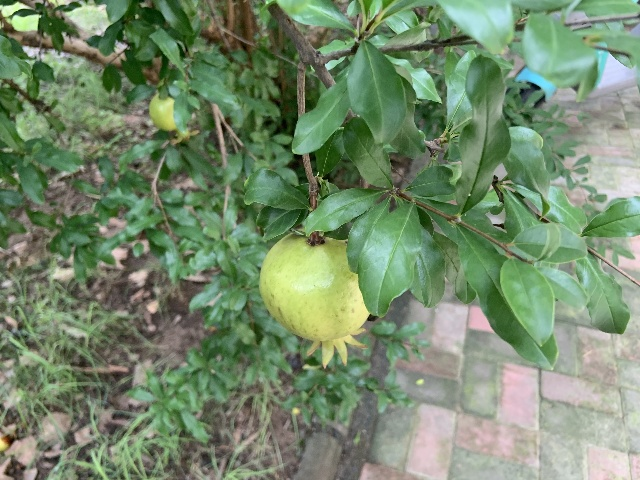mid-growth: (259, 230, 370, 369), (149, 93, 196, 143)
